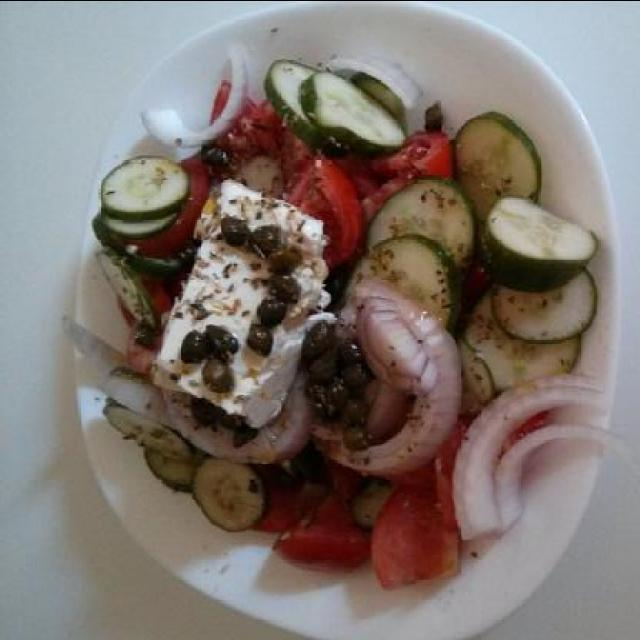Salad: (57, 60, 634, 588)
